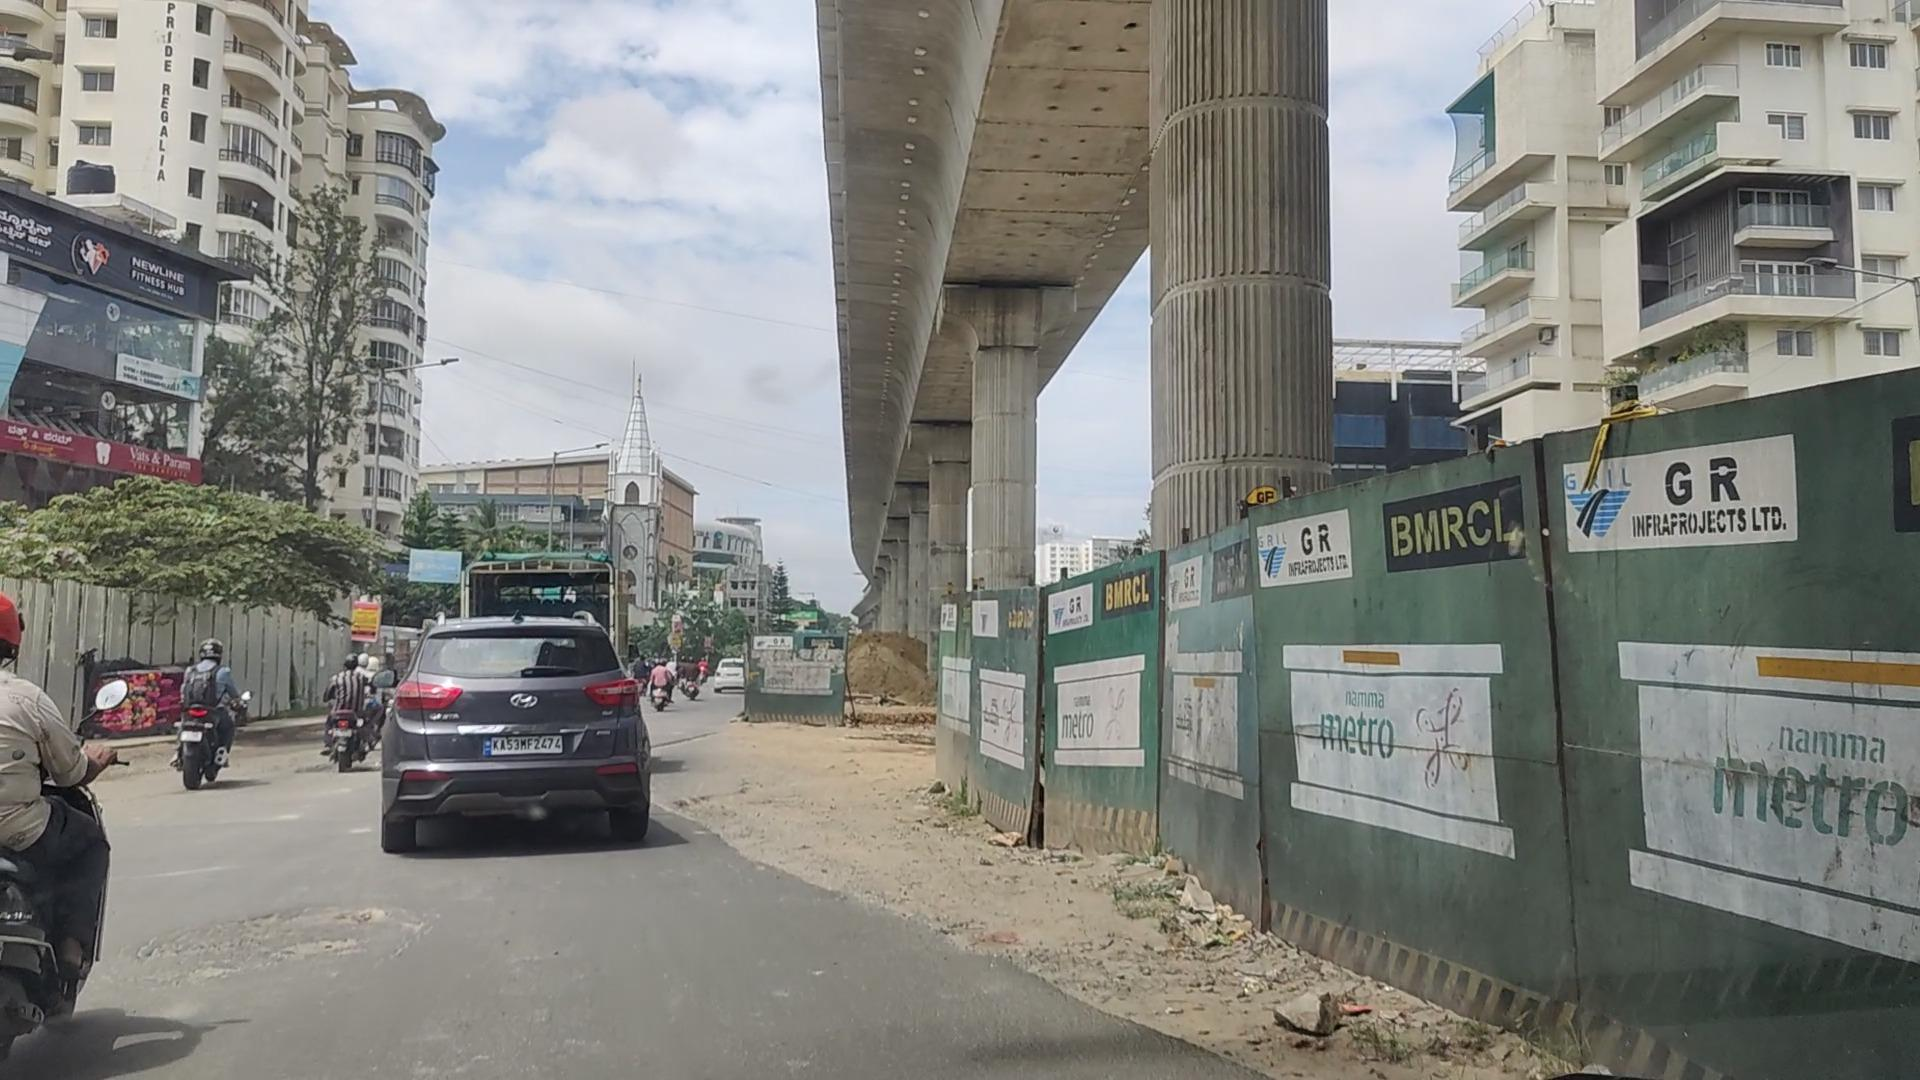LMV: (392, 638, 649, 852), (175, 640, 255, 799)
RoadDamages: (165, 882, 373, 998), (844, 890, 1033, 1014), (691, 791, 806, 905)
